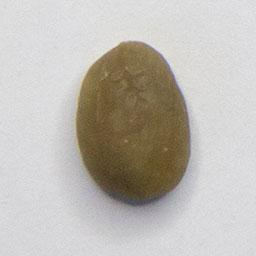premium: (71, 35, 196, 207)
